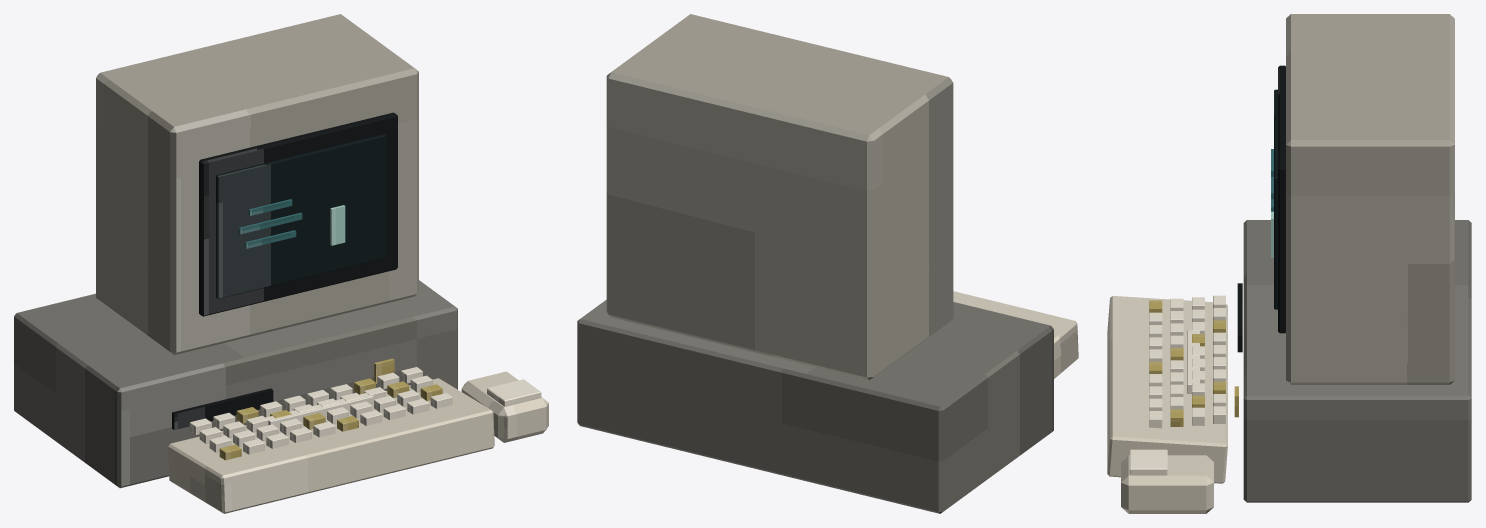
Rendered from retro_computer_desktop_ivory.glb.
The picture shows the model from 3 angles, left to right: view 1: azimuth 30°, elevation 25°; view 2: azimuth 150°, elevation 25°; view 3: azimuth 270°, elevation 25°; orthographic projection. The views are drawn at different scales.
Visible parts, largest first — view 1: MonitorShell, DesktopCase, MonitorGlow, KeyboardBody, MonitorFace, Mouse, FloppySlot, MouseButton, SpaceBar, ScreenGlyph_4; view 2: MonitorShell, DesktopCase, KeyboardBody; view 3: MonitorShell, DesktopCase, KeyboardBody, Mouse, MonitorFace, MouseButton, MonitorGlow, SpaceBar, FloppySlot.
Boxes of the visible parts, x1=… form: MonitorShell: x1=96, y1=14, x2=418, y2=354; DesktopCase: x1=14, y1=280, x2=457, y2=488; MonitorGlow: x1=216, y1=134, x2=386, y2=298; KeyboardBody: x1=168, y1=378, x2=494, y2=513; MonitorFace: x1=199, y1=112, x2=397, y2=316; Mouse: x1=461, y1=371, x2=548, y2=442; FloppySlot: x1=172, y1=388, x2=273, y2=429; MouseButton: x1=487, y1=379, x2=541, y2=406; SpaceBar: x1=265, y1=393, x2=373, y2=428; ScreenGlyph_4: x1=330, y1=205, x2=345, y2=245; MonitorShell: x1=606, y1=14, x2=953, y2=380; DesktopCase: x1=577, y1=299, x2=1053, y2=513; KeyboardBody: x1=953, y1=291, x2=1078, y2=378; MonitorShell: x1=1286, y1=14, x2=1454, y2=384; DesktopCase: x1=1243, y1=220, x2=1471, y2=502; KeyboardBody: x1=1107, y1=296, x2=1227, y2=483; Mouse: x1=1121, y1=455, x2=1213, y2=513; MonitorFace: x1=1278, y1=65, x2=1285, y2=333; MouseButton: x1=1129, y1=449, x2=1167, y2=475; MonitorGlow: x1=1274, y1=89, x2=1277, y2=309; SpaceBar: x1=1187, y1=330, x2=1199, y2=393; FloppySlot: x1=1237, y1=283, x2=1242, y2=352.
Size of the model in its own units: 1.1 by 0.92 by 0.8629.
1 material, 1 textured.
